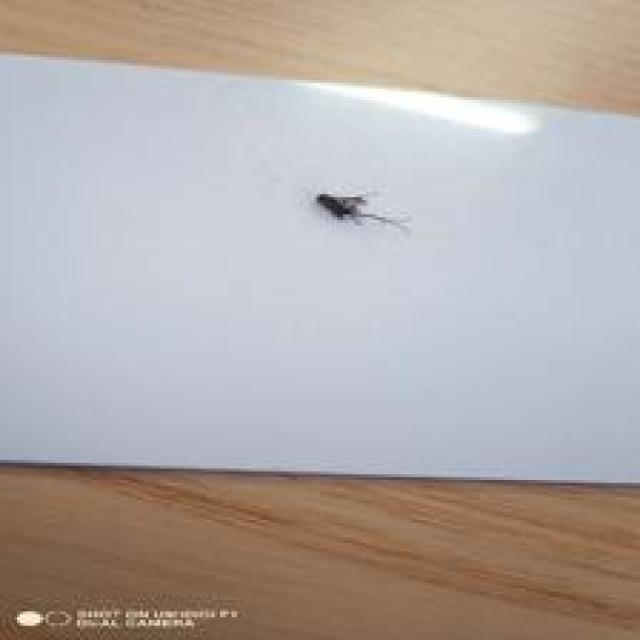Aedes albopictus: (314, 190, 409, 233)
